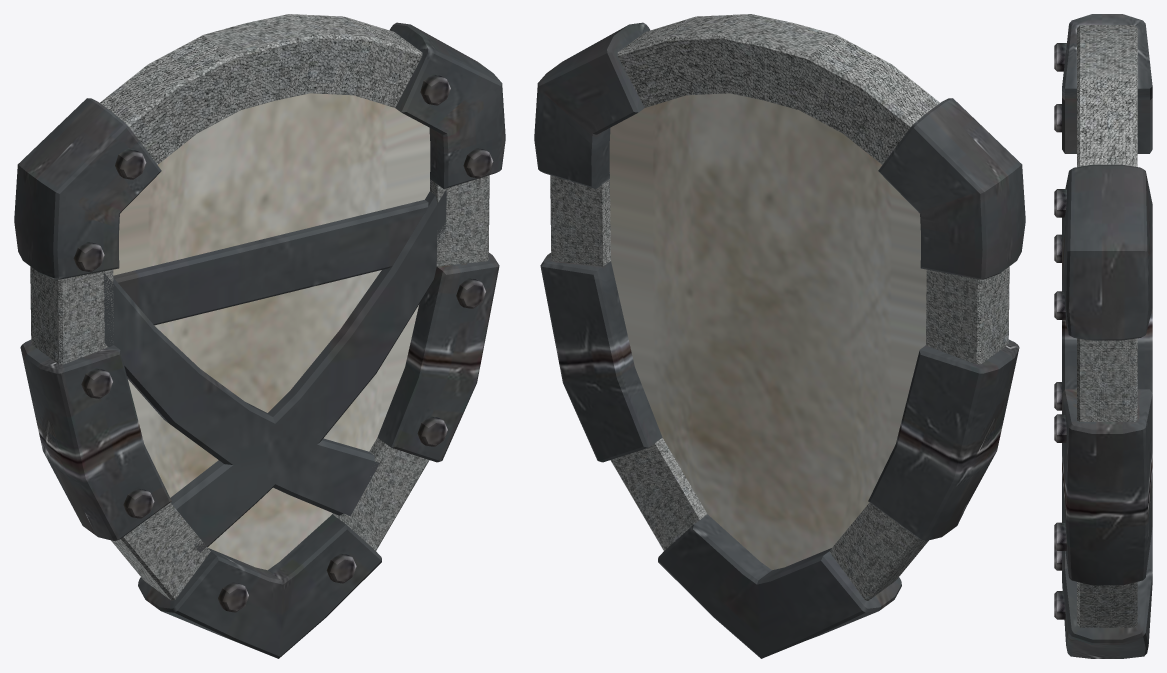
Rendered from AbandonedWeapon_Shield.fbx.
3 renders of one model, left to right at view 1: azimuth 30°, elevation 25°; view 2: azimuth 150°, elevation 25°; view 3: azimuth 270°, elevation 25°, orthographic.
Parts seen in each view (by area): view 1: AbandonedWeapon_Shield; view 2: AbandonedWeapon_Shield; view 3: AbandonedWeapon_Shield.
Part boxes in pixels (left/top/right/bottom): AbandonedWeapon_Shield: left=14, top=14, right=505, bottom=658; AbandonedWeapon_Shield: left=534, top=14, right=1025, bottom=658; AbandonedWeapon_Shield: left=1054, top=14, right=1152, bottom=658.
Size of the model in its own units: 34.3 by 43.84 by 6.49.
